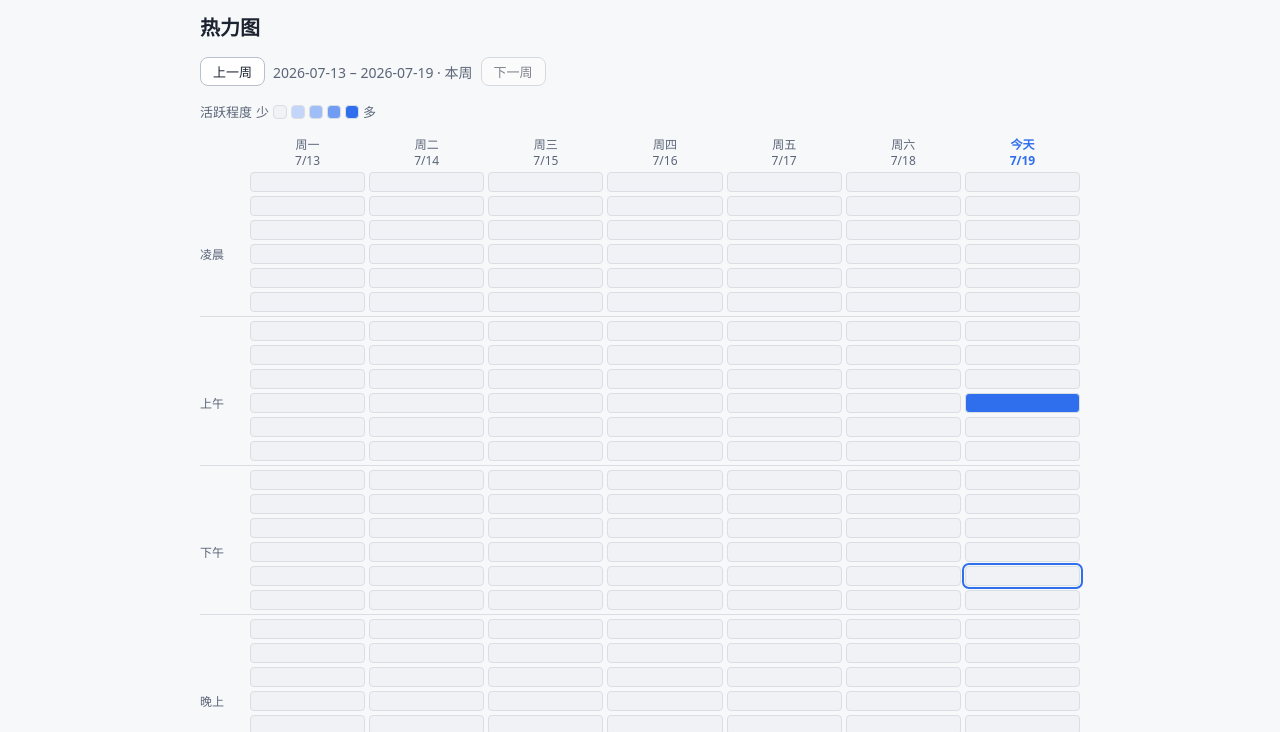
it: Heatmap 页面 › 周导航 › 轮询 pending 时切换周：新周照常加载，迟到的旧响应不得覆盖新视图
The width and height of the screenshot is (1280, 732).
# 轮询 pending 中切到上周：新请求必须发出，不得被防重入跳过。
What coordinates should you click on to do the following:
click the button "上一周"
I would click on:
 (232, 72)
Its box is [200,57,265,86].
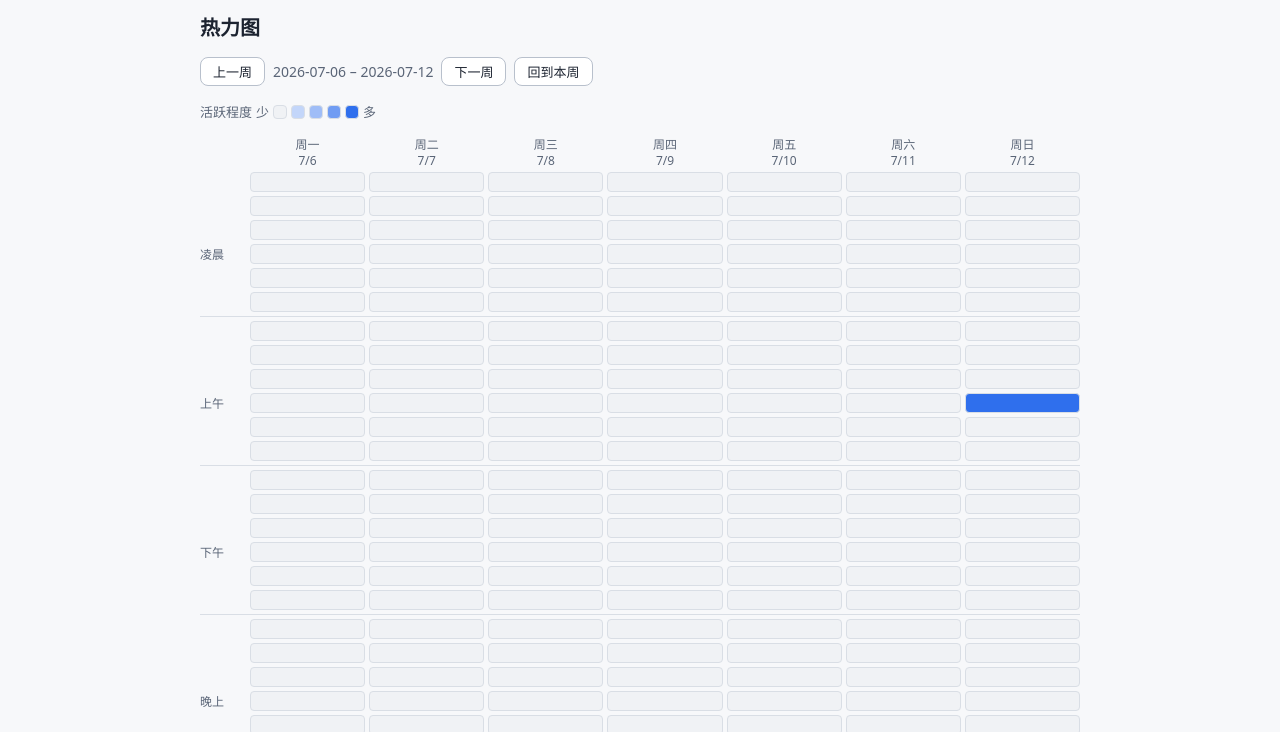
Check: the text "2026-07-06 – 2026-07-12" is shown, box [273,62,434,81]
Check: the text "2026-07-13" is gone
